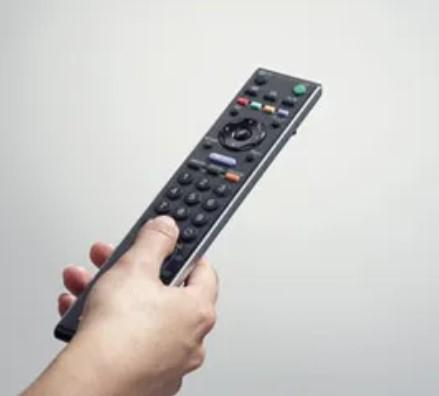Remote control: (99, 67, 324, 288)
